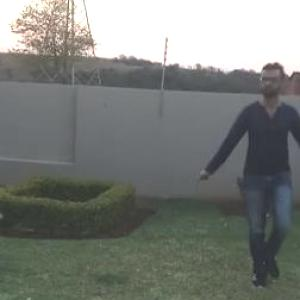land: (205, 60, 299, 294)
